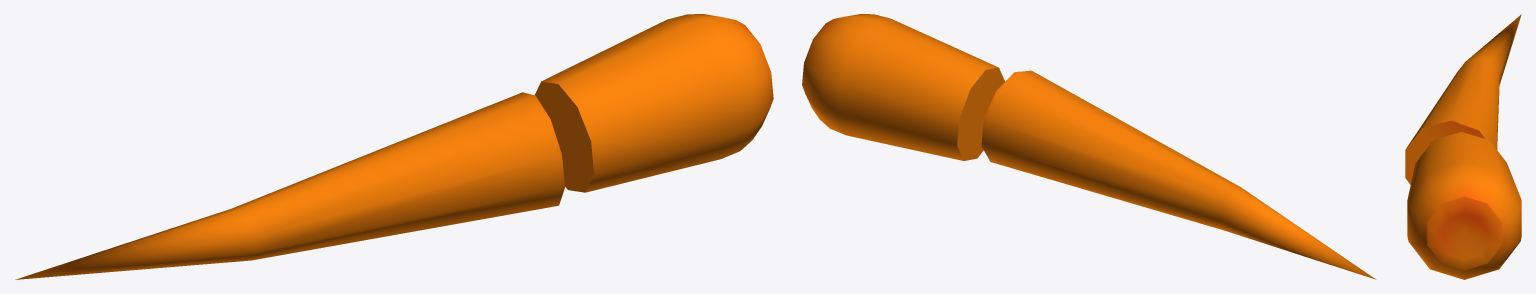
Rendered from zanahoria.FBX.
3 views of the same model, side by side, from view 1: azimuth 30°, elevation 25°; view 2: azimuth 150°, elevation 25°; view 3: azimuth 270°, elevation 25° (orthographic). The views are drawn at different scales.
Visible parts, largest first — view 1: Cylinder043, Group006; view 2: Cylinder043, Group006; view 3: Group006, Cylinder043.
Part boxes in pixels (<box>): Cylinder043: <box>15,92,564,279</box>; Group006: <box>535,14,773,192</box>; Cylinder043: <box>981,70,1376,279</box>; Group006: <box>802,14,1004,160</box>; Group006: <box>1407,132,1521,279</box>; Cylinder043: <box>1405,14,1521,184</box>.
Bounding box in the file's own units: 2.4 × 0.4431 × 0.4281.
Materials: 1 (1 with a texture image).
